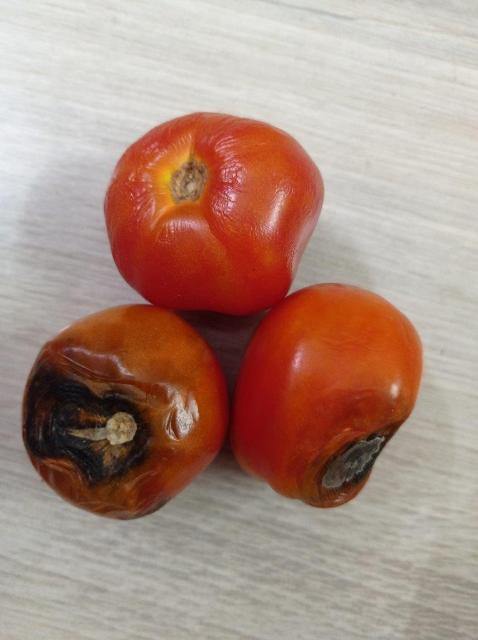defect: (18, 299, 231, 523), (236, 280, 425, 514)
